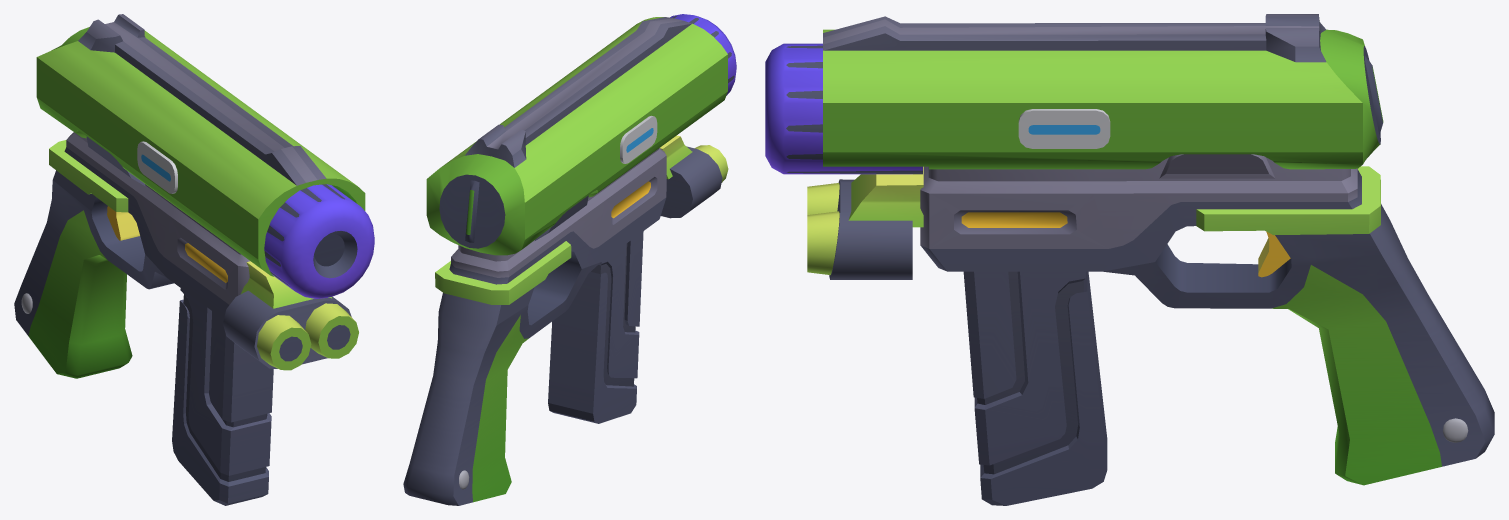
File: Pistol D.fbx
3 renders of one model, left to right at view 1: azimuth 30°, elevation 25°; view 2: azimuth 150°, elevation 25°; view 3: azimuth 270°, elevation 25°, orthographic. The views are drawn at different scales.
Parts seen in each view (by area): view 1: Pistol D; view 2: Pistol D; view 3: Pistol D.
Part boxes in pixels (x1,y1,x2,y2): Pistol D: (14, 14, 374, 505); Pistol D: (403, 14, 736, 505); Pistol D: (765, 14, 1494, 505).
Bounding box in the file's own units: 0.1861 × 0.6074 × 0.8517.
